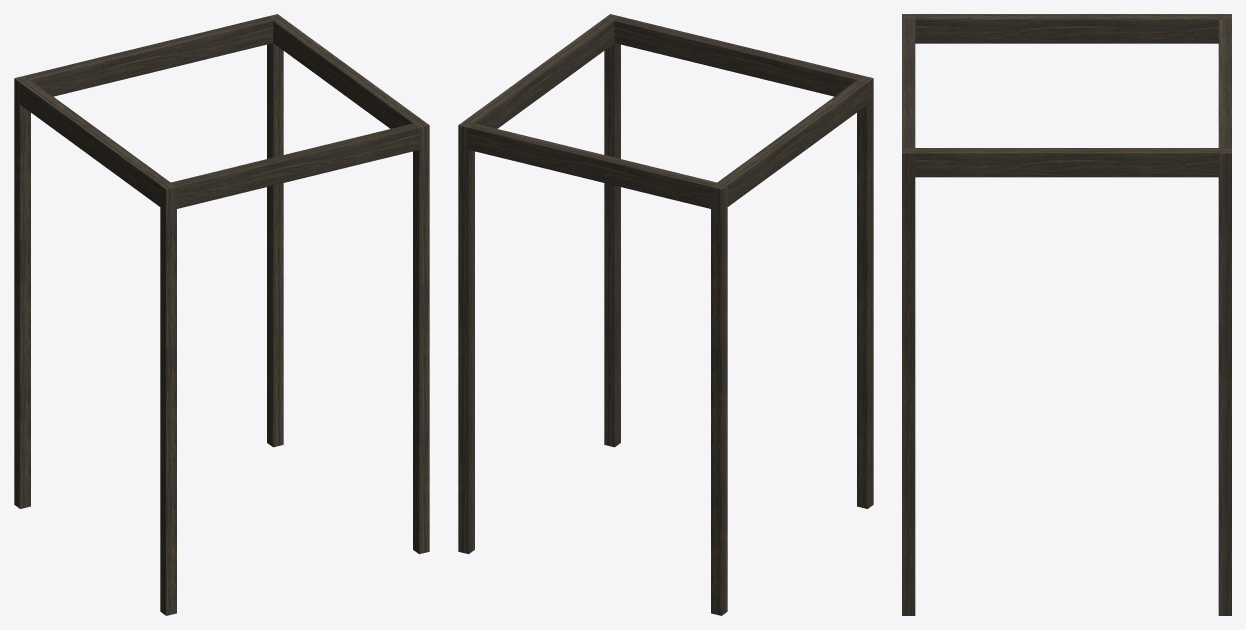
File: fp-dokurtu_1k-6s_blackebony.fbx
3 views of the same model, side by side, from view 1: azimuth 30°, elevation 25°; view 2: azimuth 150°, elevation 25°; view 3: azimuth 270°, elevation 25° (orthographic). The views are drawn at different scales.
Visible parts, largest first — view 1: fp-dokurtu_1k-6s_blackebony; view 2: fp-dokurtu_1k-6s_blackebony; view 3: fp-dokurtu_1k-6s_blackebony.
Boxes of the visible parts, x1,y1,x2,y2 form: fp-dokurtu_1k-6s_blackebony: (14, 14, 429, 615); fp-dokurtu_1k-6s_blackebony: (458, 14, 873, 615); fp-dokurtu_1k-6s_blackebony: (902, 14, 1231, 615).
Bounding box in the file's own units: 187 × 290 × 187.
1 material, 1 textured.
